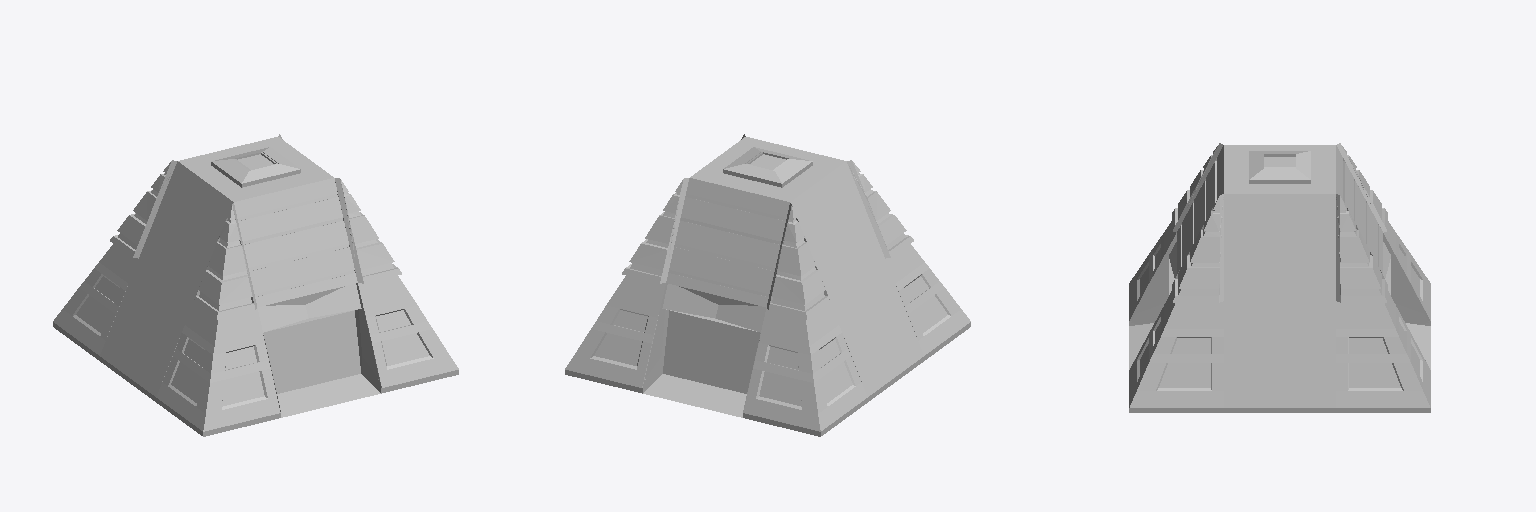
File: vivienda.obj
3 views of the same model, side by side, from view 1: azimuth 30°, elevation 25°; view 2: azimuth 150°, elevation 25°; view 3: azimuth 270°, elevation 25° (orthographic).
Visible parts, largest first — view 1: Cube; view 2: Cube; view 3: Cube.
Boxes of the visible parts, <box> form: Cube: <box>53,134,458,436</box>; Cube: <box>565,134,970,436</box>; Cube: <box>1129,143,1430,412</box>.
Size of the model in its own units: 4.02 by 2.84 by 4.09.